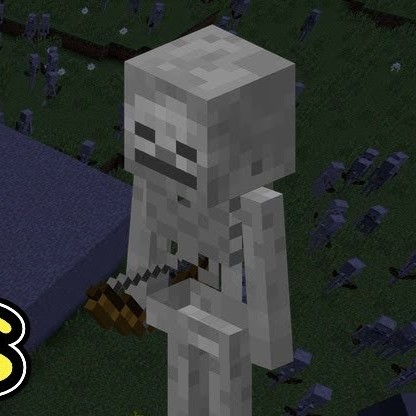skeleton: (108, 21, 309, 260)
